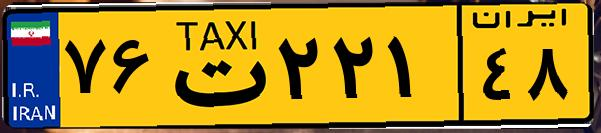1: (385, 28, 445, 110)
2: (270, 28, 330, 110), (330, 28, 385, 110)
4: (475, 38, 525, 113)
6: (110, 28, 158, 98)
7: (57, 26, 110, 100)
8: (525, 38, 570, 115)
ت: (158, 12, 270, 120)
